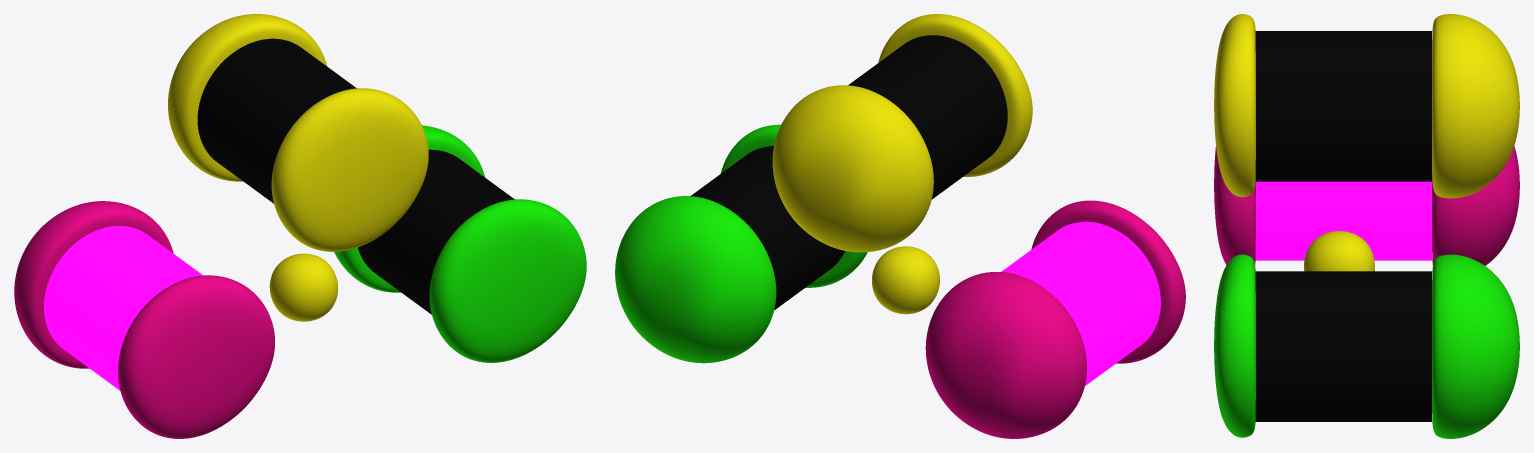
File: Rosa_Orbes.fbx
The picture shows the model from 3 angles, left to right: view 1: azimuth 30°, elevation 25°; view 2: azimuth 150°, elevation 25°; view 3: azimuth 270°, elevation 25°; orthographic projection. The views are drawn at different scales.
Visible parts, largest first — view 1: Cubo; view 2: Cubo; view 3: Cubo.
Part boxes in pixels (left/top/right/bottom): Cubo: left=14, top=14, right=586, bottom=438; Cubo: left=615, top=14, right=1185, bottom=438; Cubo: left=1214, top=14, right=1519, bottom=438.
Size of the model in its own units: 73.32 by 46.6 by 39.58.
